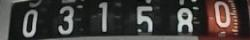digits: (90, 1, 122, 36), (209, 2, 240, 37), (57, 5, 74, 33), (21, 9, 38, 37), (136, 4, 153, 31), (176, 7, 193, 31)
